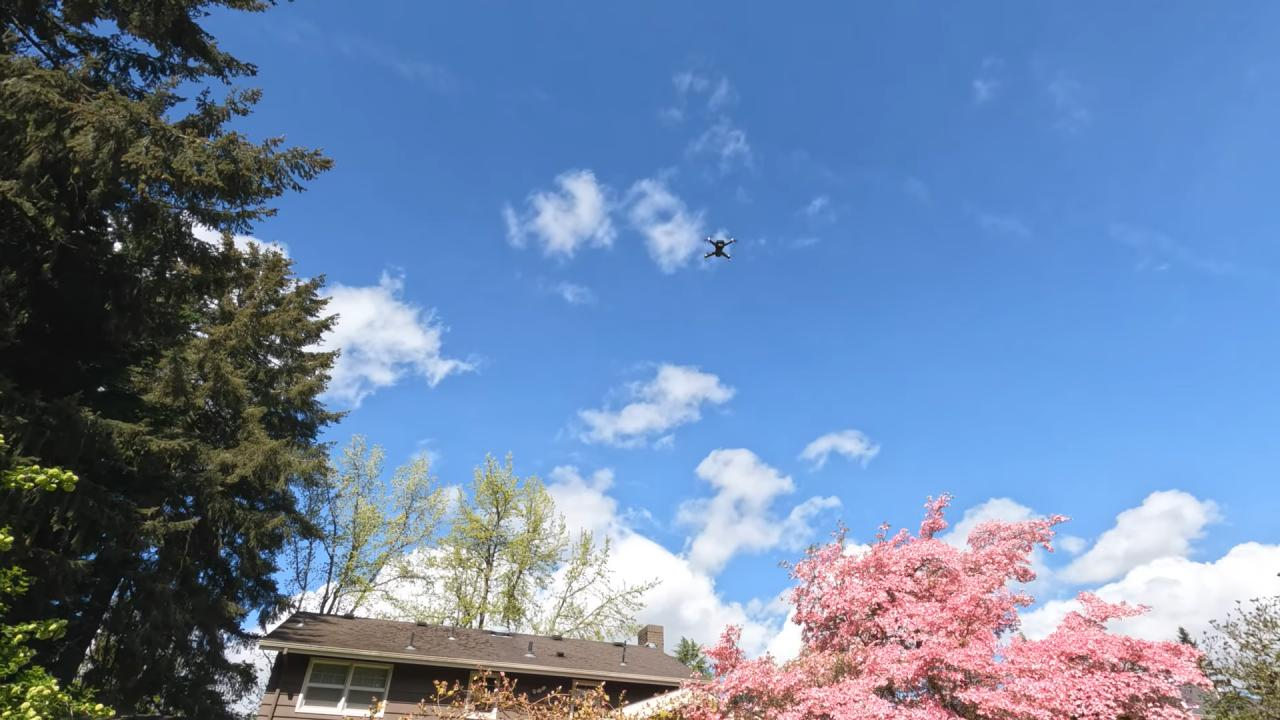Drone: (694, 228, 743, 268)
